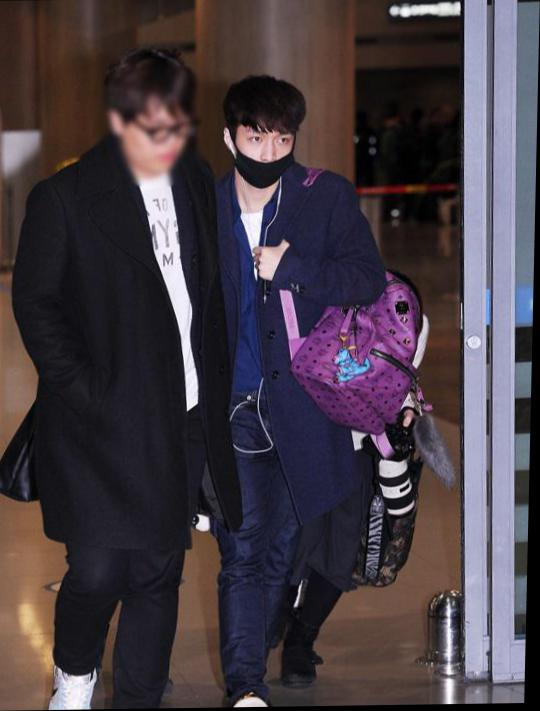NONE: (123, 104, 192, 173)
WRONG: (227, 121, 296, 189)
